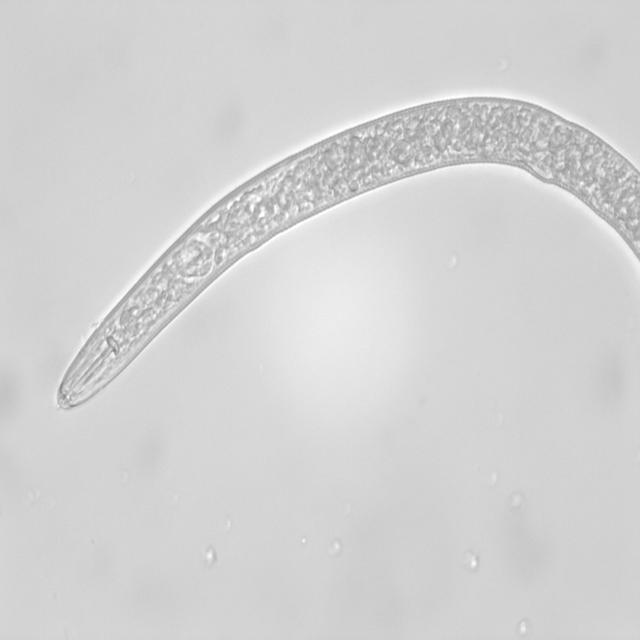Helicotylenchus: (46, 88, 640, 422)
